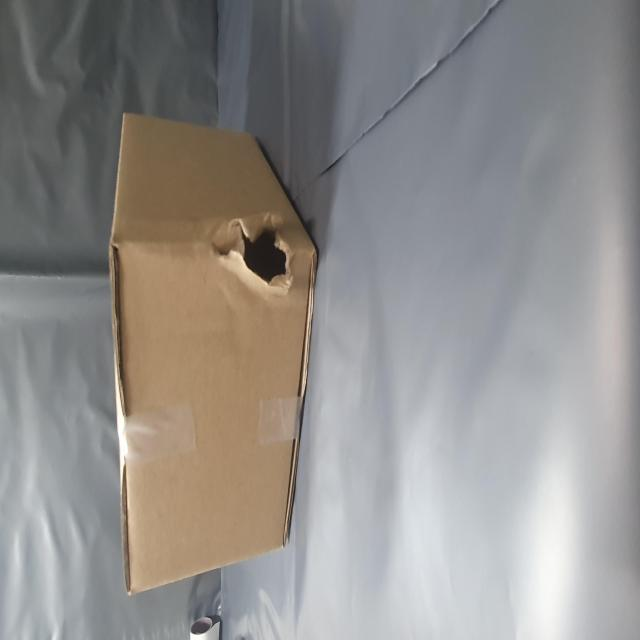damaged: (189, 410, 244, 517)
